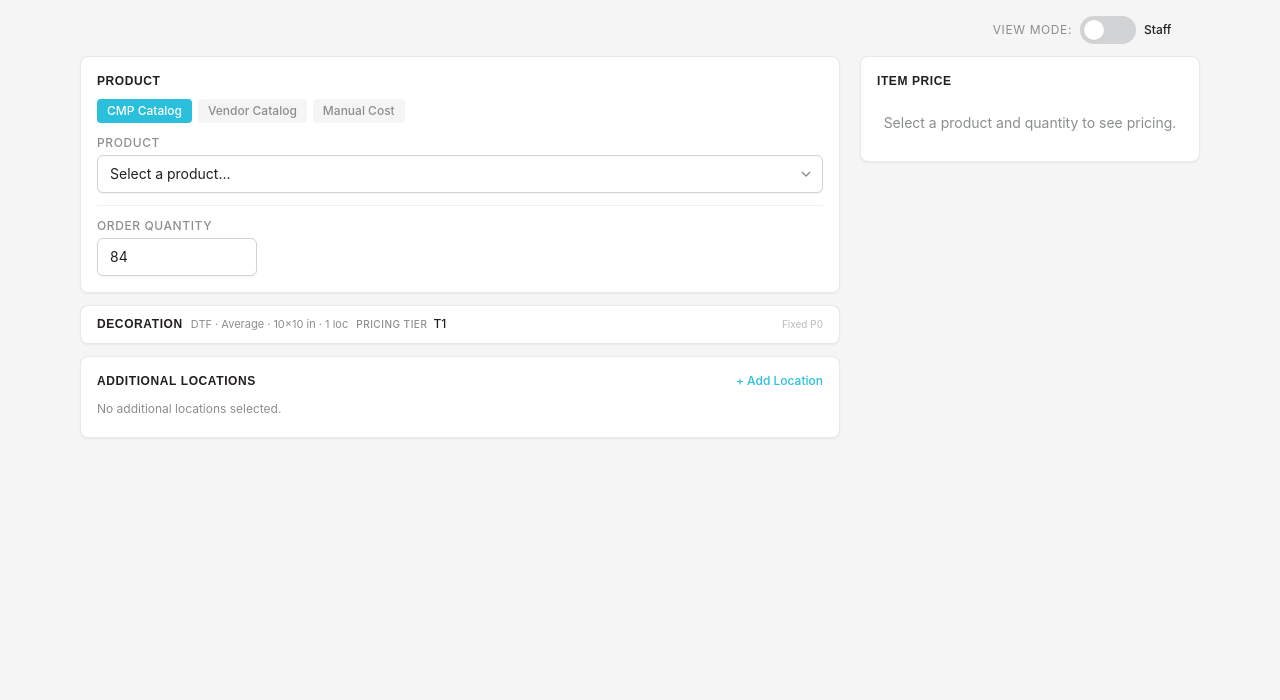
it: additional-location quantity race condition › blank quantity clears populated totals and valid recovery recalculates item and locations
Select "TEE-100 — Basic Tee" in the dropdown labelled "Product" at x=460, y=174, box [97, 155, 823, 193]
Wait 360 ms
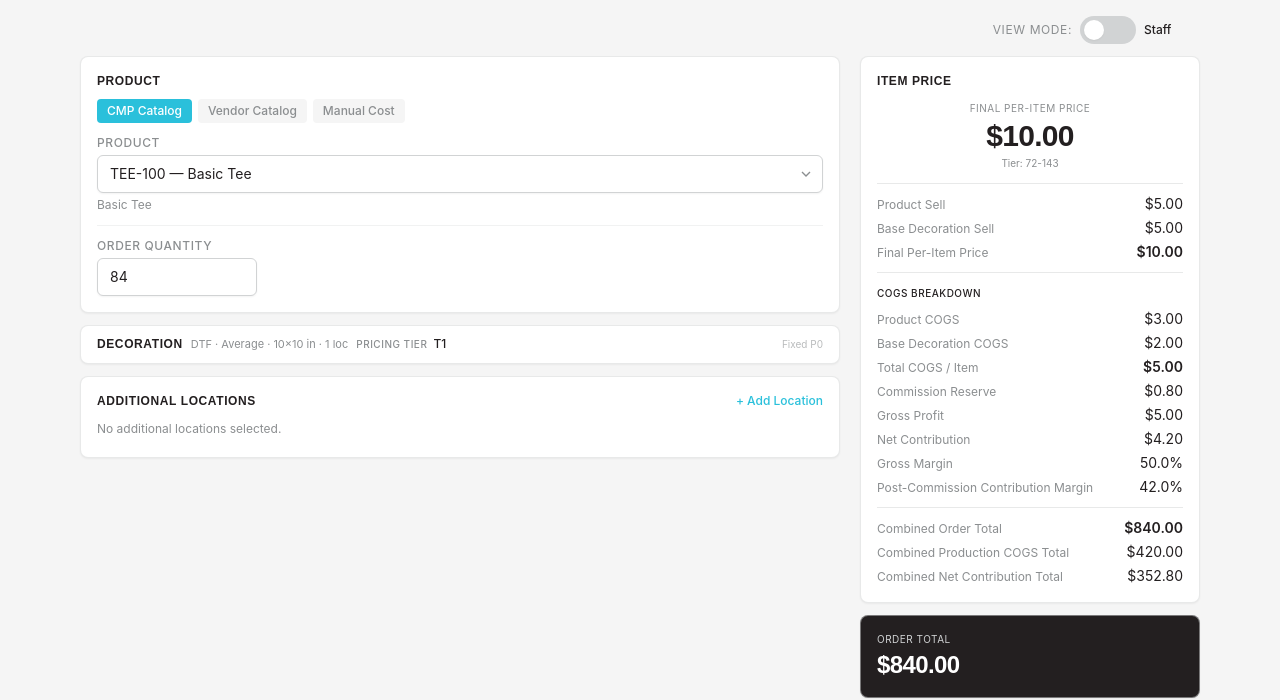
Click the button with test id "add-location-btn" at x=779, y=400, box [736, 392, 823, 408]
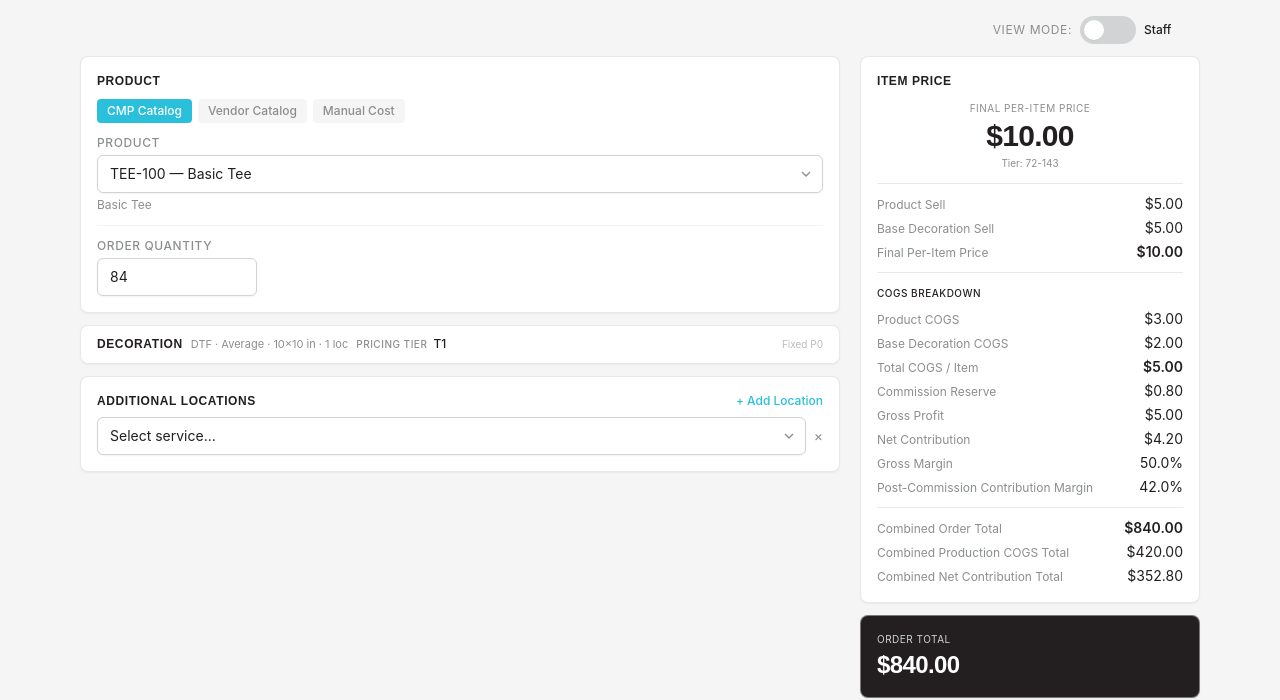
Select "Sleeve Print" in the dropdown named "Service for location loc-5" at x=451, y=436, box [97, 416, 806, 454]
Wait 360 ms
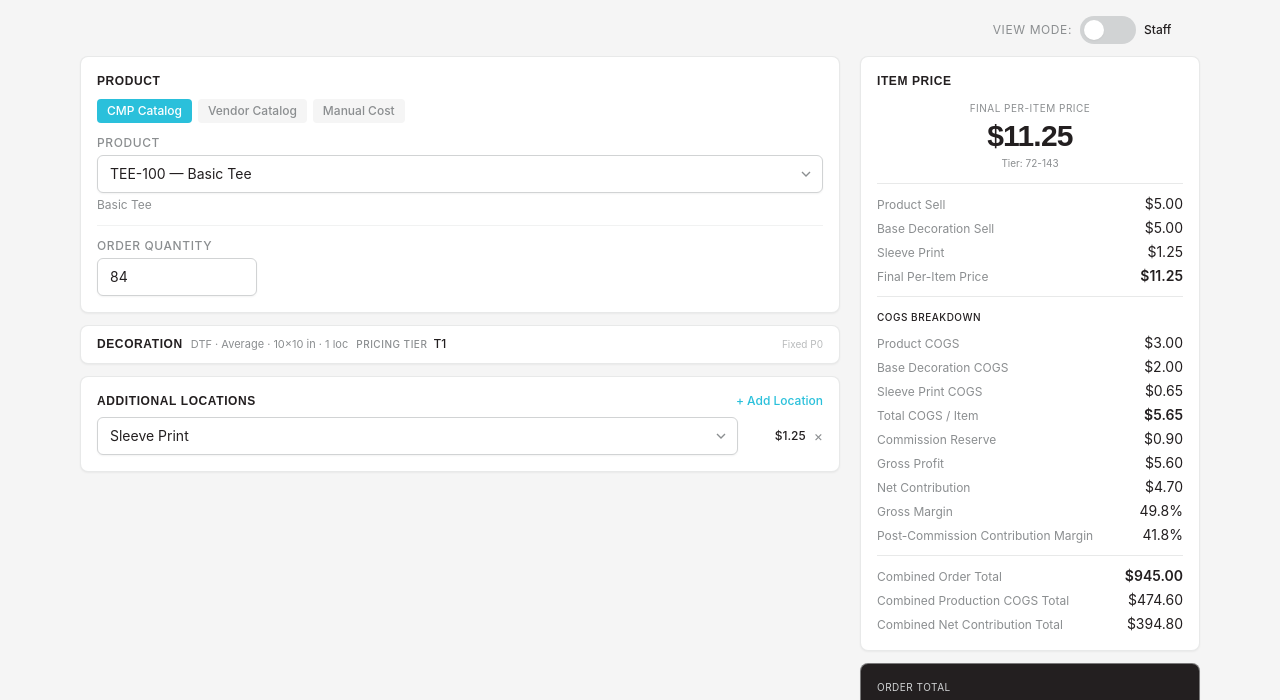
Clear the number field labelled "Order Quantity" at x=177, y=277, box [97, 258, 257, 296]
Wait 400 ms
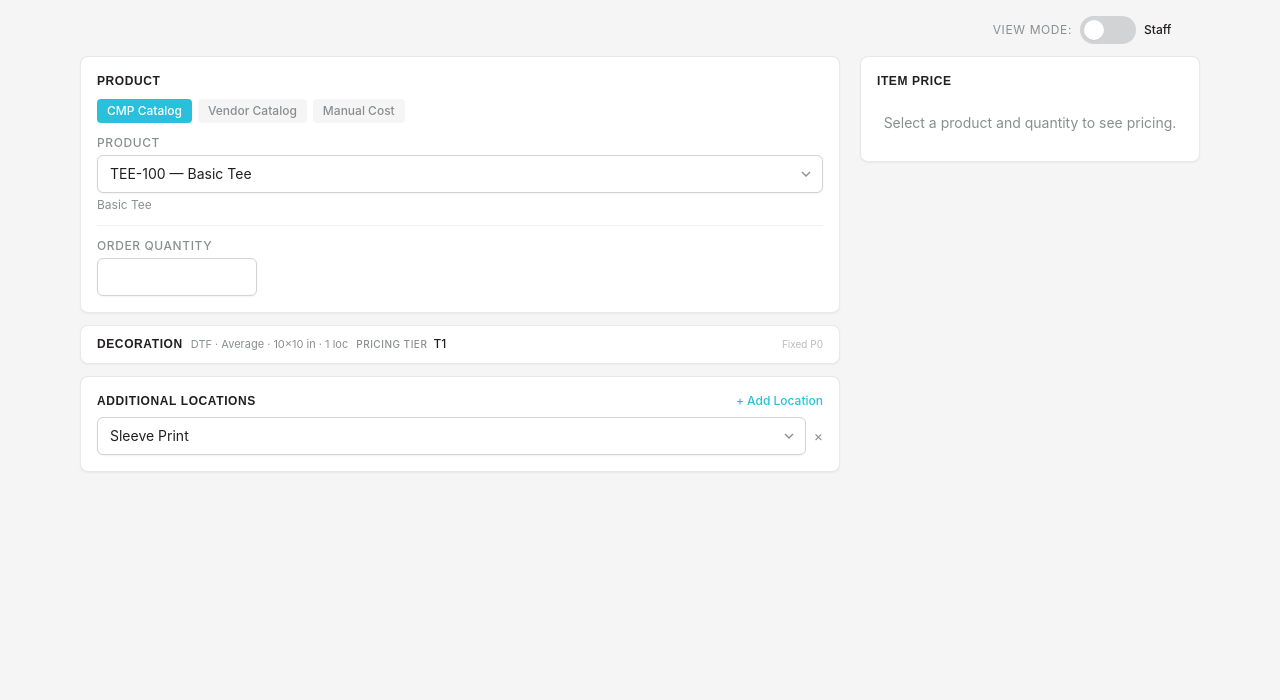
expect the text labelled "Per-Item Price" is gone: met
expect the text labelled "Order Total" is gone: met
expect the text "$" is gone: met
Type "200" into the number field labelled "Order Quantity" at x=177, y=277, box [97, 258, 257, 296]
Wait 360 ms
(page scrolled)
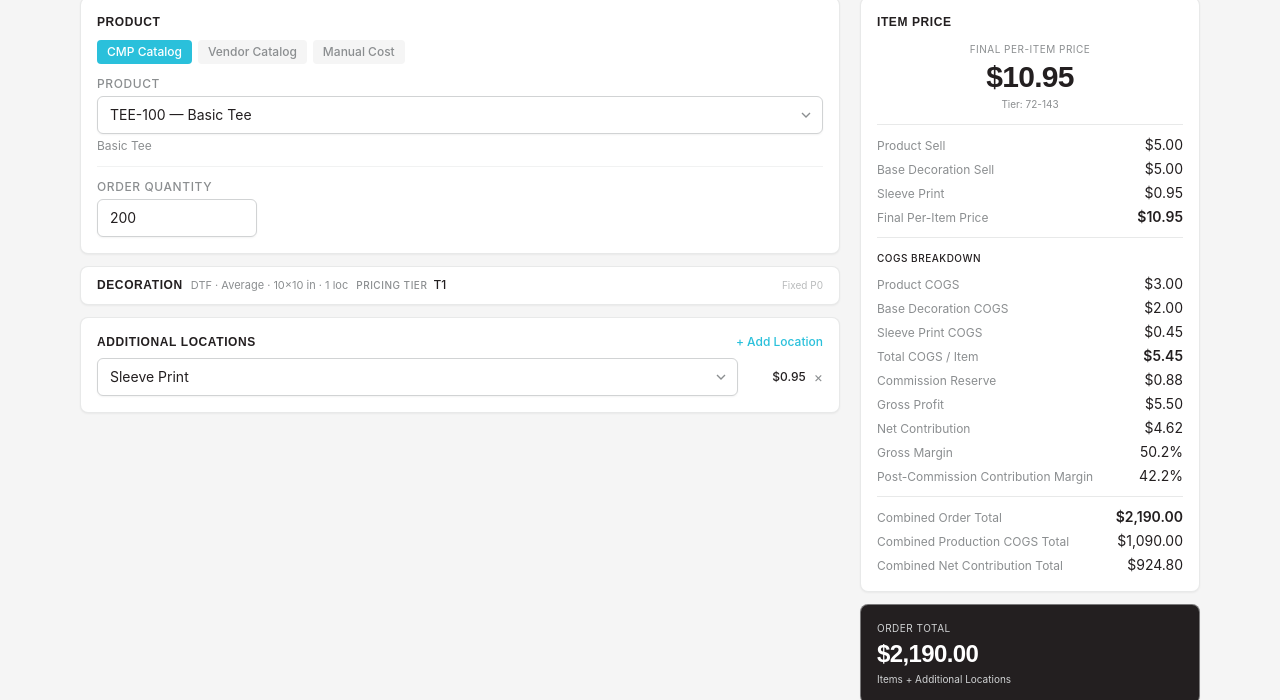
expect the text named "per-item price" reads "$10.95": met, box [986, 60, 1074, 93]
expect the text named "order total" reads "$2,190.00": met, box [877, 640, 978, 667]
